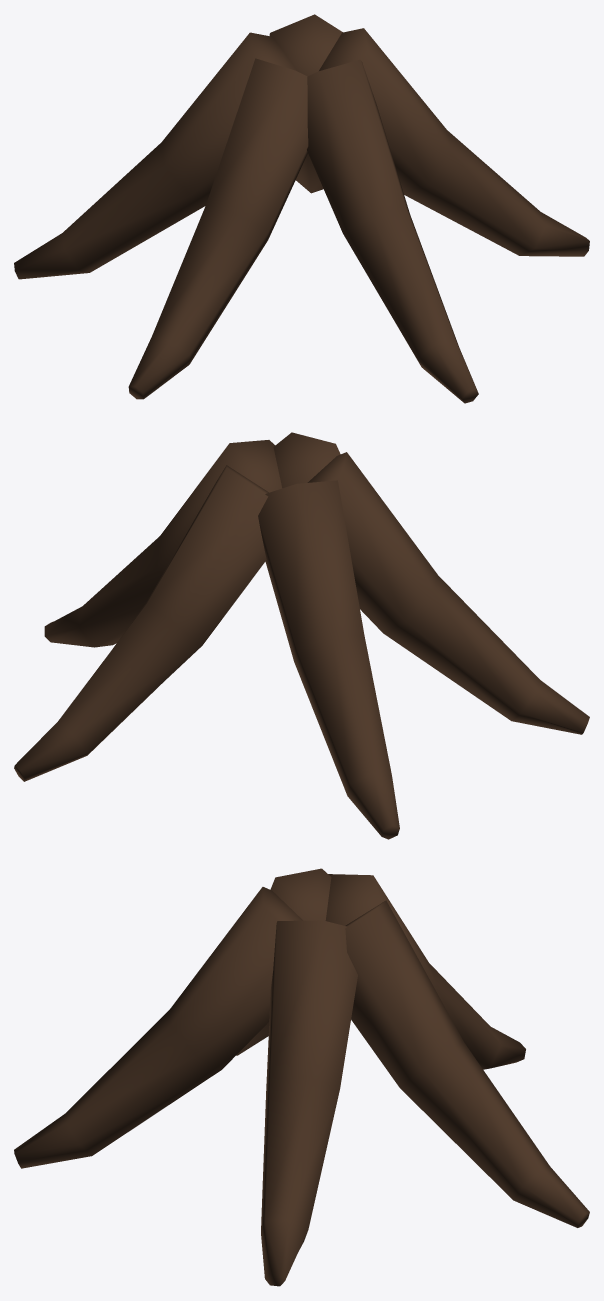
Rendered from prop_root.glb.
3 renders of one model, top to bottom at view 1: azimuth 30°, elevation 25°; view 2: azimuth 150°, elevation 25°; view 3: azimuth 270°, elevation 25°, orthographic. The views are drawn at different scales.
Visible parts, largest first — view 1: root.003, root.004, root.002, root, root.001; view 2: root.002, root.001, root.003, root, root.004; view 3: root.001, root, root.004, root.002, root.003.
Boxes of the visible parts, bbox=[...] form: root.003: bbox=[128, 58, 308, 399]; root.004: bbox=[307, 59, 478, 403]; root.002: bbox=[14, 32, 298, 279]; root: bbox=[319, 28, 589, 256]; root.001: bbox=[269, 14, 342, 193]; root.002: bbox=[258, 480, 399, 839]; root.001: bbox=[14, 465, 268, 781]; root.003: bbox=[307, 452, 589, 734]; root: bbox=[44, 440, 282, 647]; root.004: bbox=[273, 432, 340, 488]; root.001: bbox=[345, 900, 589, 1227]; root: bbox=[261, 920, 357, 1286]; root.004: bbox=[14, 887, 302, 1168]; root.002: bbox=[325, 874, 525, 1069]; root.003: bbox=[236, 868, 331, 1055].
Bounding box in the file's own units: 1.16 × 0.5807 × 1.13.
